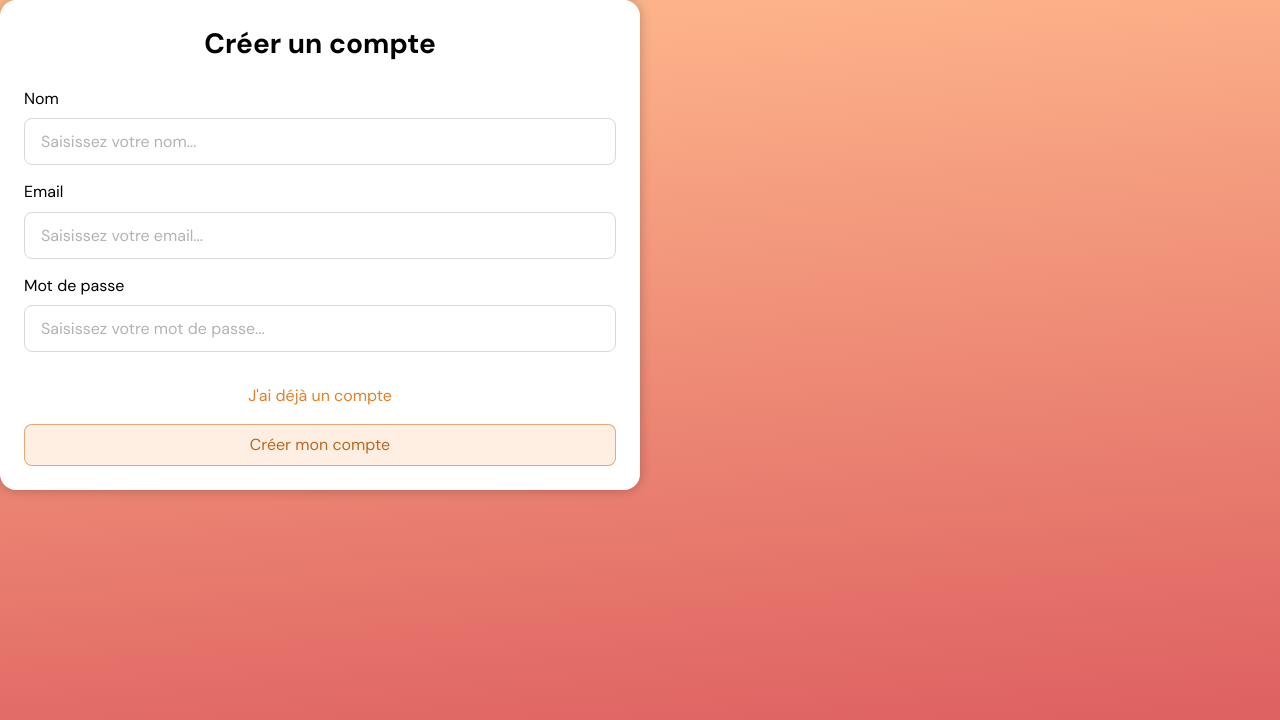
it: Register › 409 email déjà utilisé → le message du backend est affiché
In the field with placeholder "Saisissez votre nom...": (320, 142) [24,118,616,165], type "Léa"
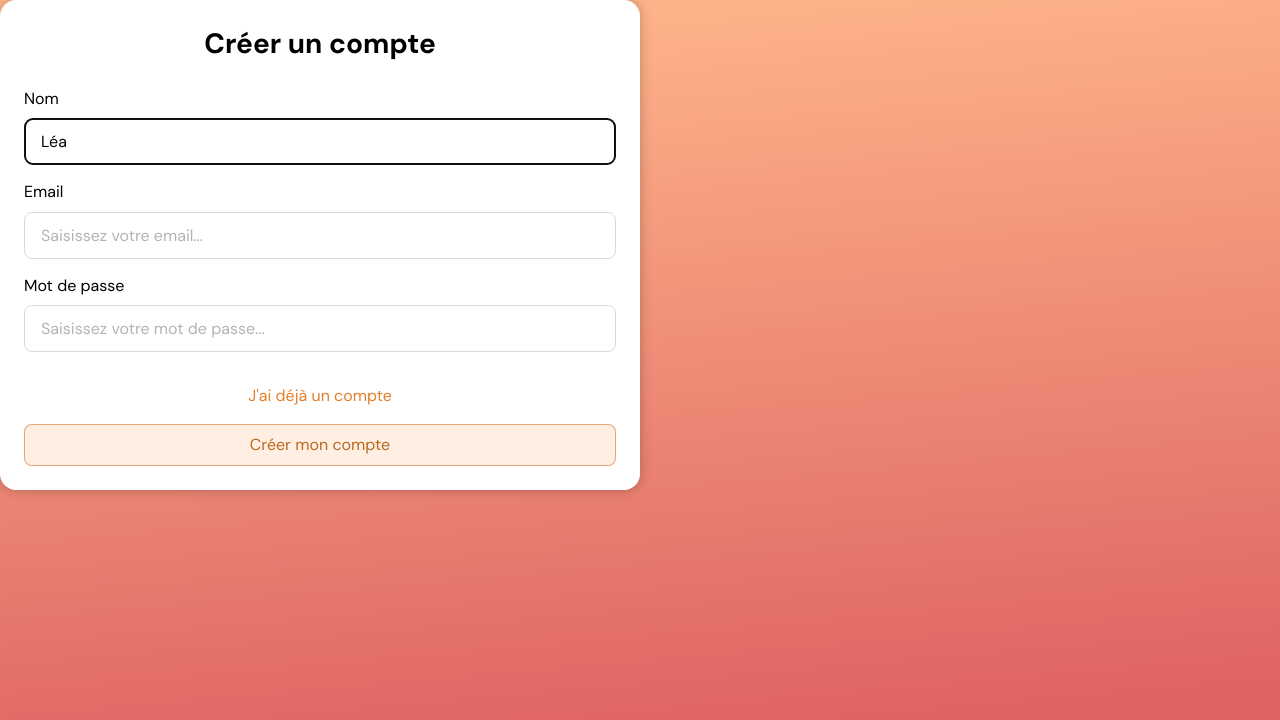
In the field with placeholder "Saisissez votre email...": (320, 235) [24,212,616,259], type "lea@example.com"
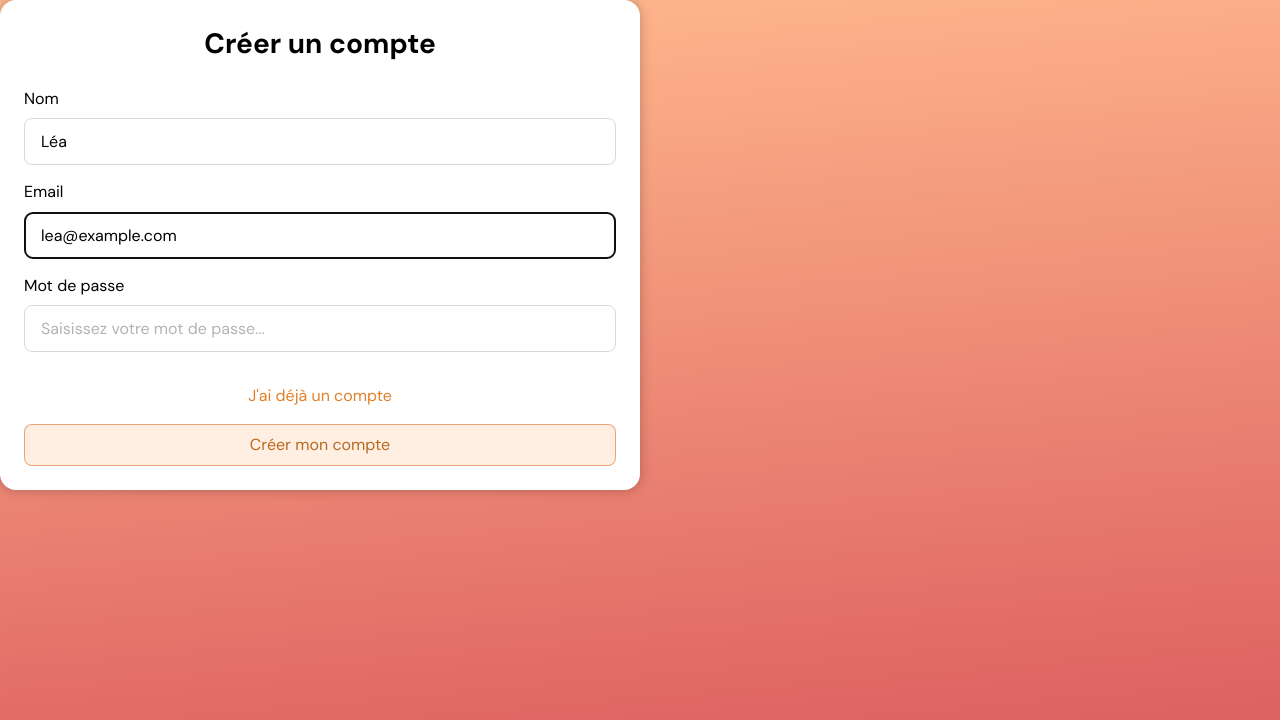
In the password field with placeholder "Saisissez votre mot de passe...": (320, 329) [24,305,616,352], type "motdepasse123"
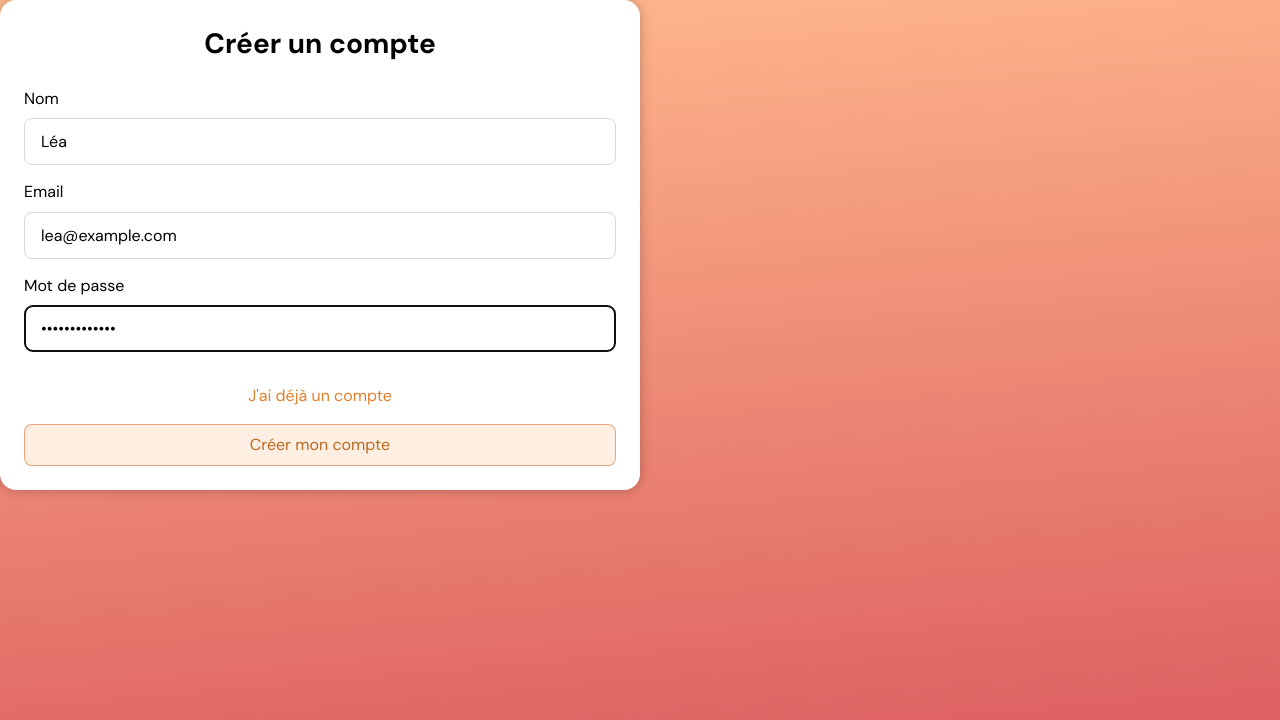
Click the button "Créer mon compte": (320, 445) [24,424,616,466]
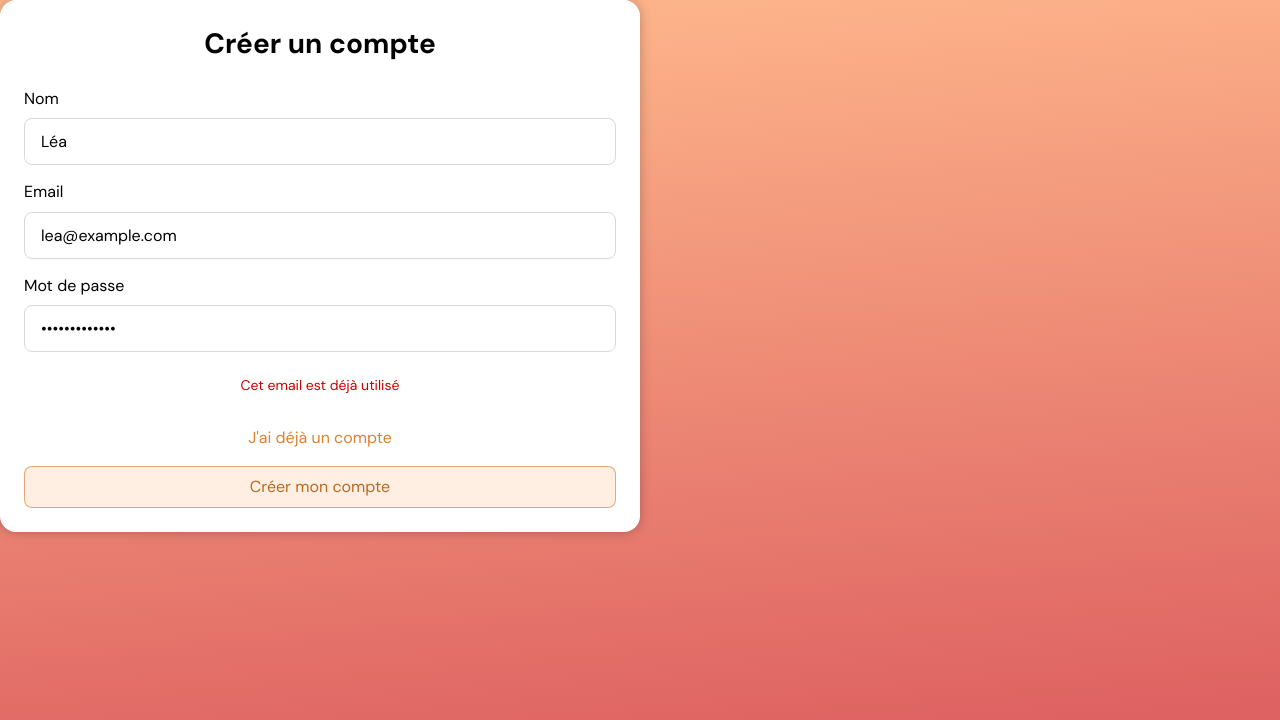
Result: the text "Cet email est déjà utilisé" is shown at [240,376,399,394]
